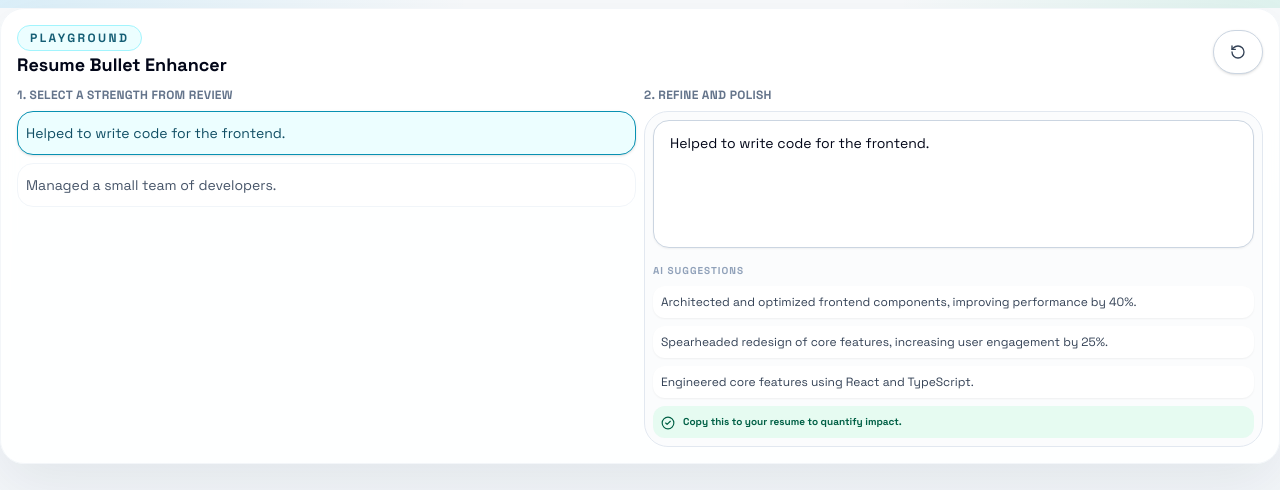
Test: ResumeBulletPlayground › resets the edited bullet to the current original bullet
Replace the text in the text box with "Something completely different": (954, 184) [653, 120, 1254, 248]
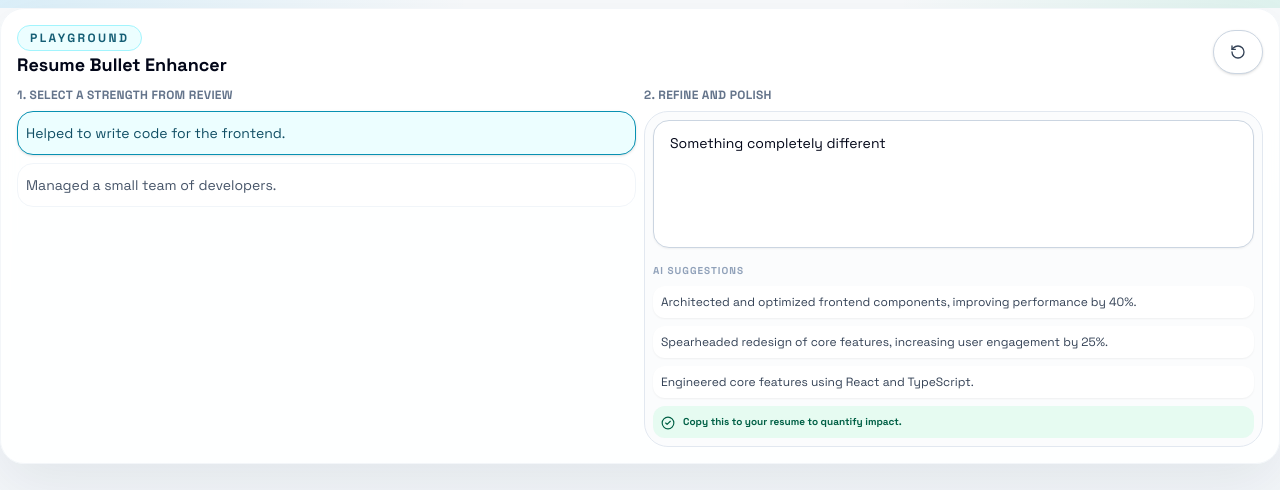
Click the button titled "Reset bullet": (1238, 52) [1213, 30, 1263, 74]
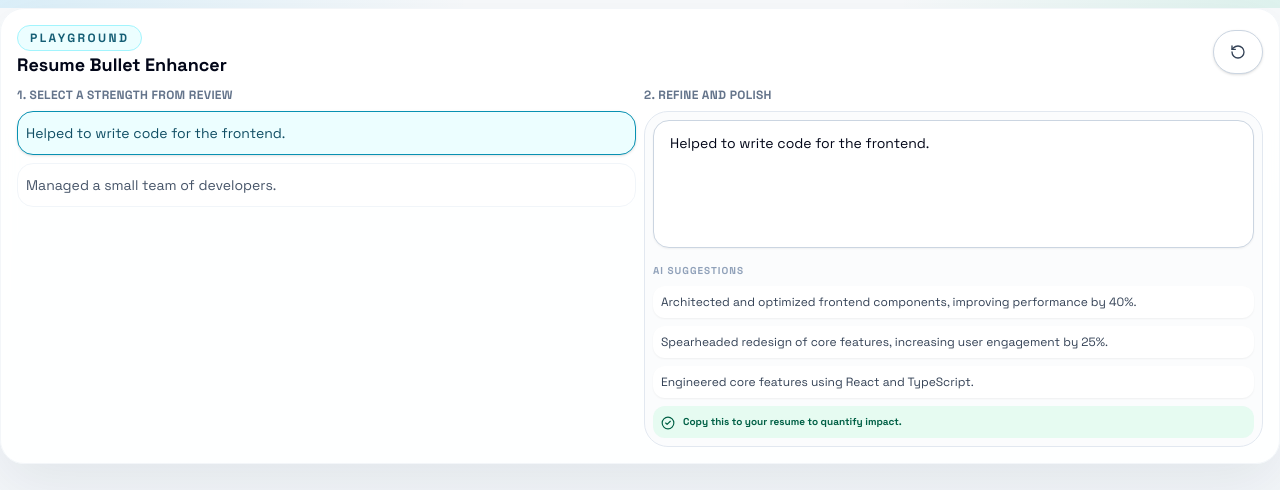
Expected: the text box holds "Helped to write code for the frontend.", [653, 120, 1254, 248]
